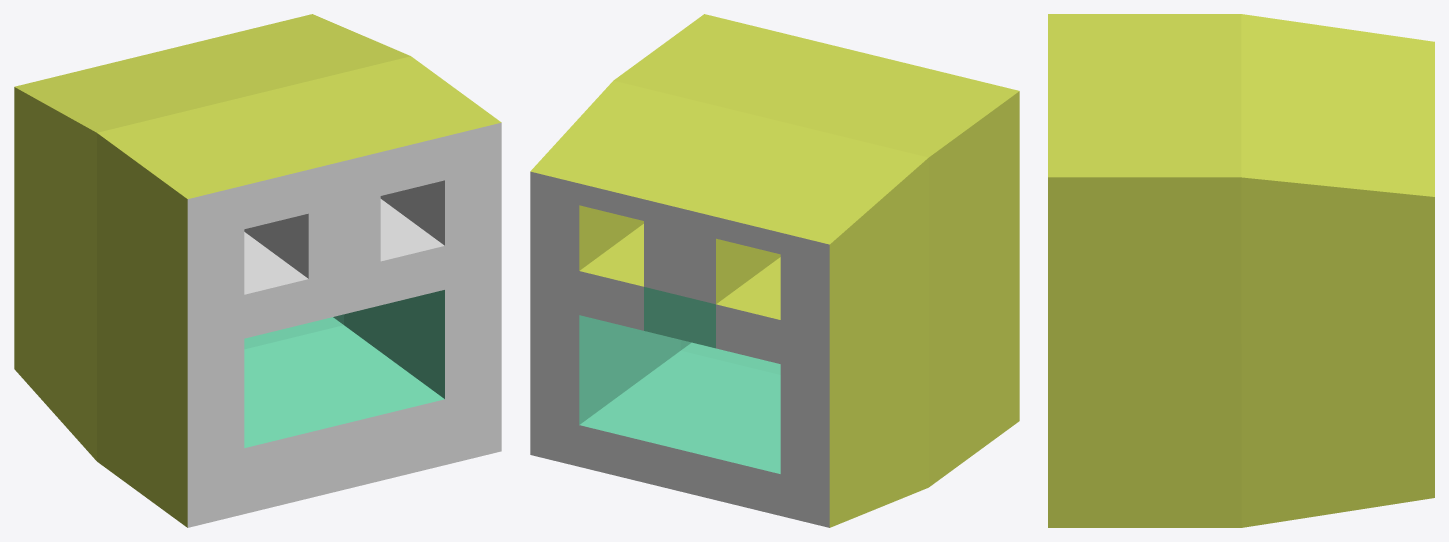
File: Baddy_01.fbx
3 renders of one model, left to right at view 1: azimuth 30°, elevation 25°; view 2: azimuth 150°, elevation 25°; view 3: azimuth 270°, elevation 25°, orthographic. The views are drawn at different scales.
Visible parts, largest first — view 1: BaddyCube; view 2: BaddyCube; view 3: BaddyCube.
Boxes of the visible parts, <box> form: BaddyCube: <box>14,14,501,527</box>; BaddyCube: <box>530,14,1019,527</box>; BaddyCube: <box>1048,14,1434,527</box>.
Bounding box in the file's own units: 100 × 100 × 100.
